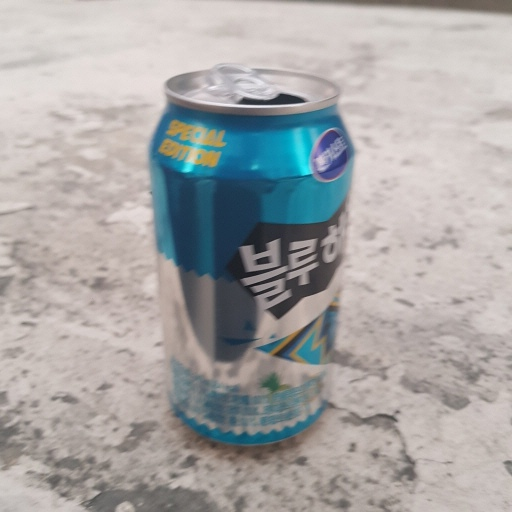Metal_0: (146, 62, 357, 452)
